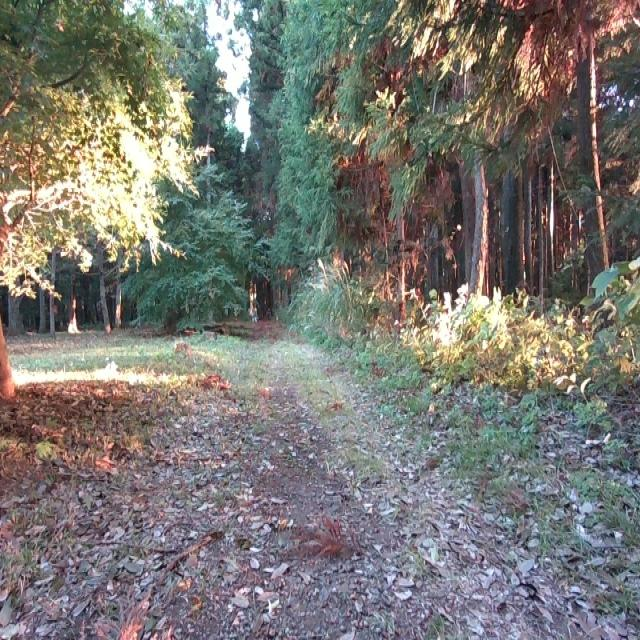bush: (372, 264, 640, 448), (297, 270, 401, 374)
tree: (0, 0, 82, 407), (431, 0, 500, 314)
